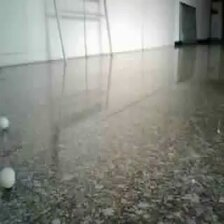w: (1, 167, 15, 188), (1, 117, 9, 128)
